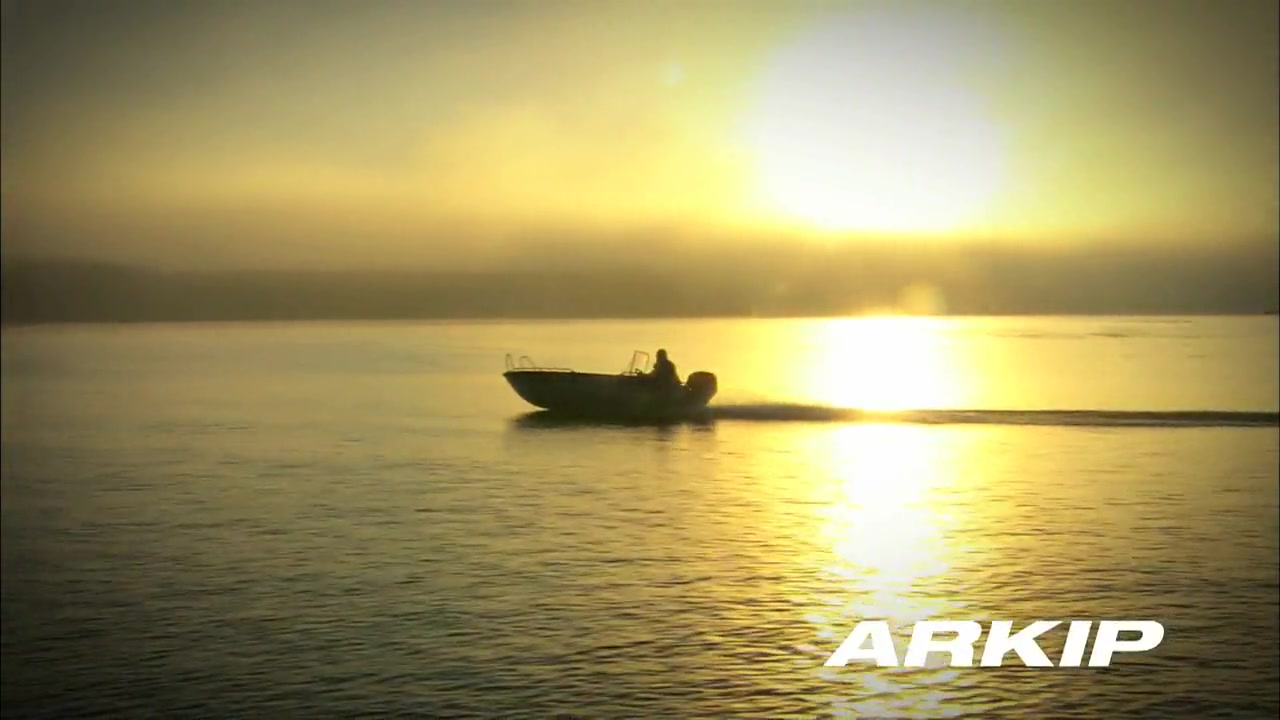boat: (501, 351, 724, 425)
